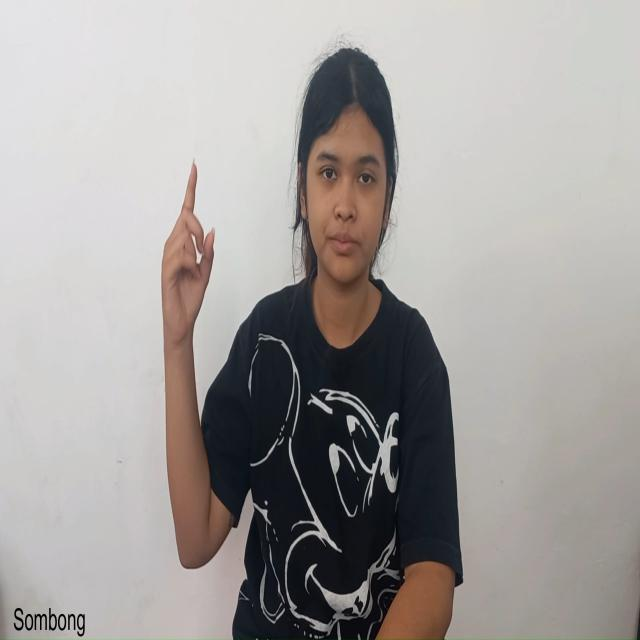Sombong -BISINDO-: (159, 154, 217, 575)
